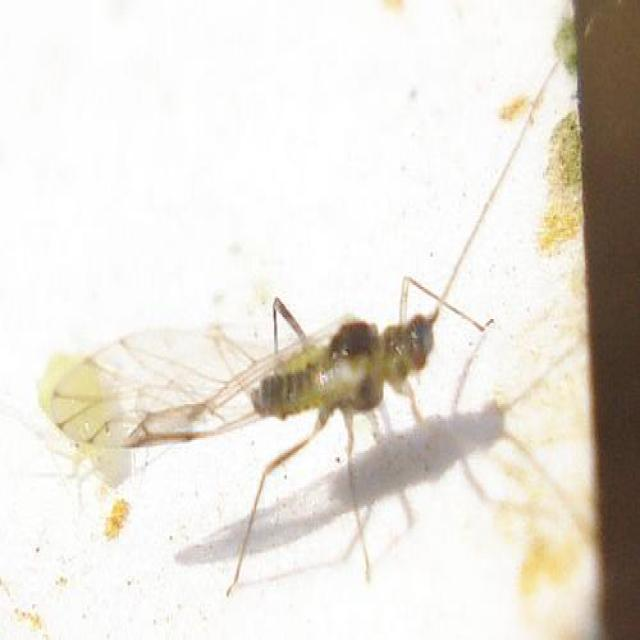Aphids: (45, 154, 557, 603)
